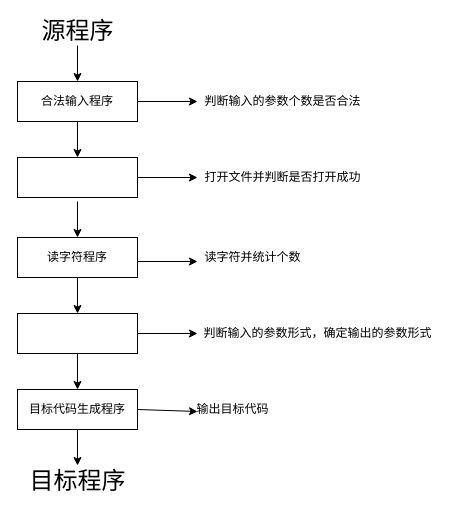
Some shapes in this 455 by 513 pixel diagram are drawn without their labels. The shapes that lost their labels are listed below. From the top down, each one's centre as x and y in pixels, then its label:
At pixel 77 177: "文件打开判断程序".
At pixel 77 333: "读参数程序".
